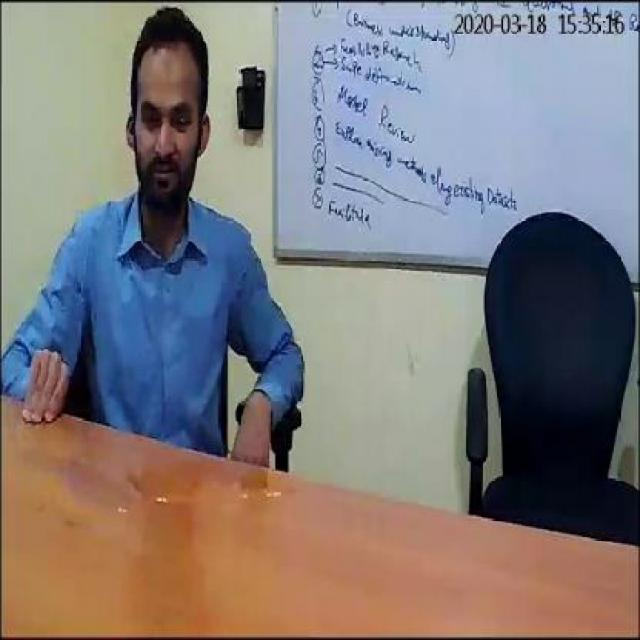spill: (70, 438, 316, 518)
